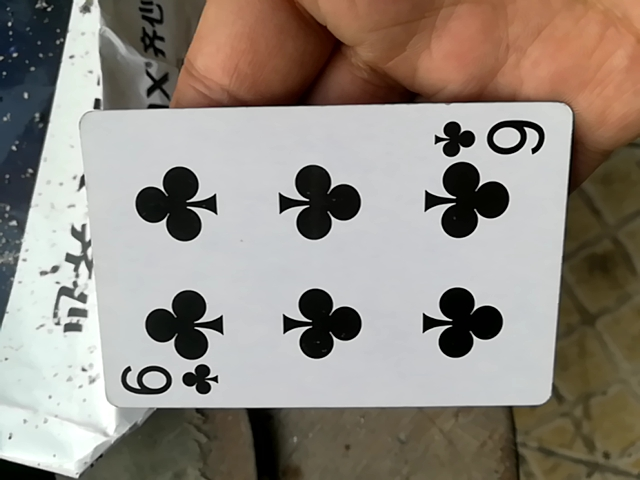mh 6: (72, 106, 574, 417)
